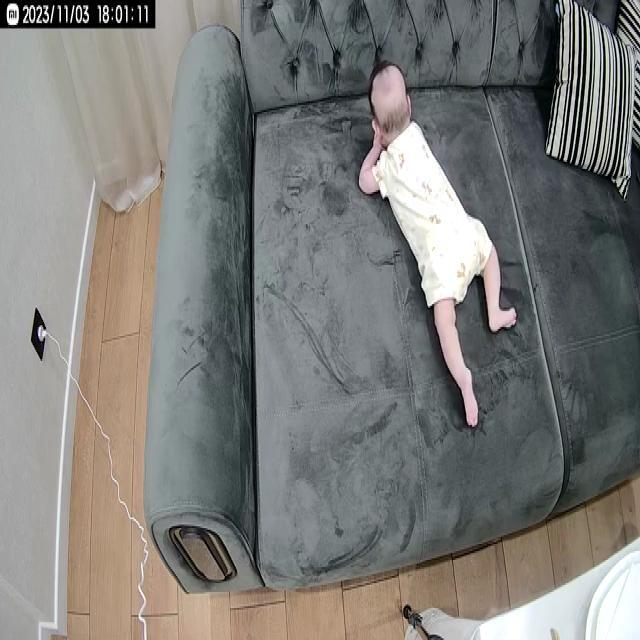baby: (359, 61, 519, 433)
